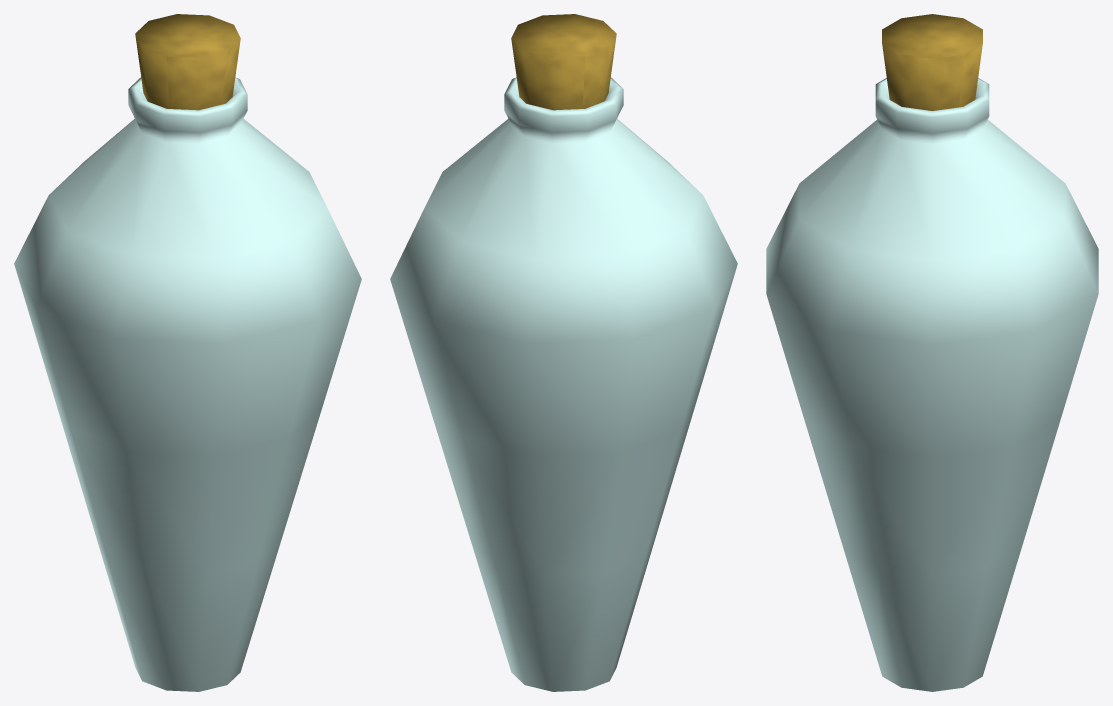
Rendered from droplet-no_neck.glb.
3 views of the same model, side by side, from view 1: azimuth 30°, elevation 25°; view 2: azimuth 150°, elevation 25°; view 3: azimuth 270°, elevation 25° (orthographic).
Parts seen in each view (by area): view 1: droplet-no_neck, cork-droplet-no_neck; view 2: droplet-no_neck, cork-droplet-no_neck; view 3: droplet-no_neck, cork-droplet-no_neck.
Boxes of the visible parts, x1,y1,x2,y2 form: droplet-no_neck: (14,77,361,691); cork-droplet-no_neck: (135,14,240,110); droplet-no_neck: (390,77,737,691); cork-droplet-no_neck: (511,14,616,110); droplet-no_neck: (766,78,1098,691); cork-droplet-no_neck: (882,14,982,110).
Size of the model in its own units: 0.0745 by 0.1491 by 0.0709.
Materials: 2 (1 with a texture image).
